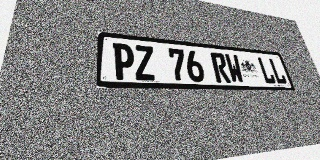6: (184, 50, 206, 82)
7: (167, 48, 189, 82)
L: (257, 57, 277, 84), (268, 58, 288, 84)
P: (113, 43, 135, 80)
R: (210, 52, 231, 83)
W: (224, 54, 245, 83)
Z: (134, 45, 156, 81)
